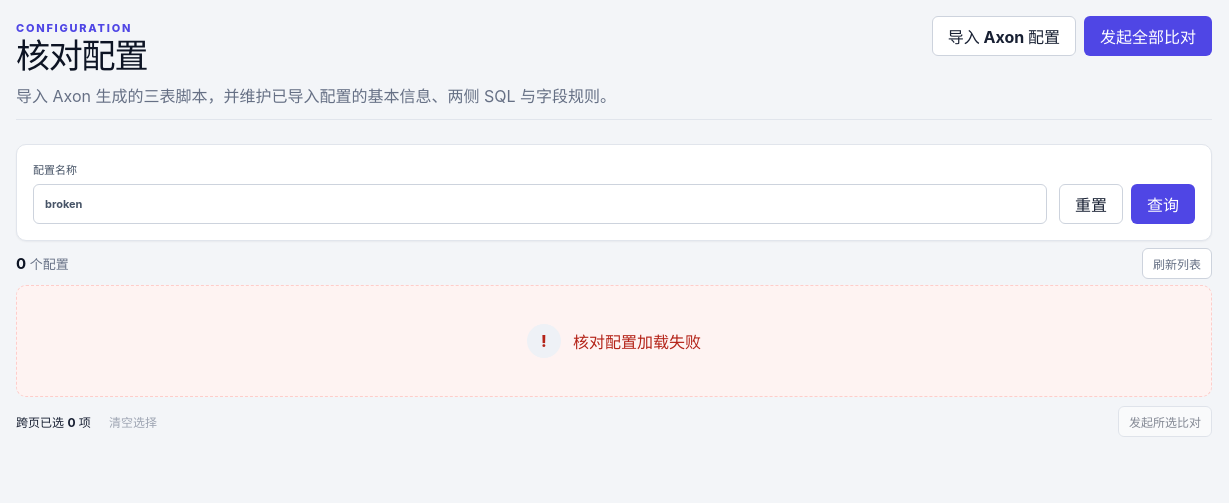
Test: keeps a failed search recoverable through reset
The image size is (1229, 503).
Expected: the text "核对配置加载失败" is shown, x1=573 y1=332 x2=701 y2=352
Expected: the field labelled "配置名称" is shown, x1=33 y1=184 x2=1047 y2=224
Click the button "重置" at x=1091, y=204, box x1=1059 y1=184 x2=1123 y2=224
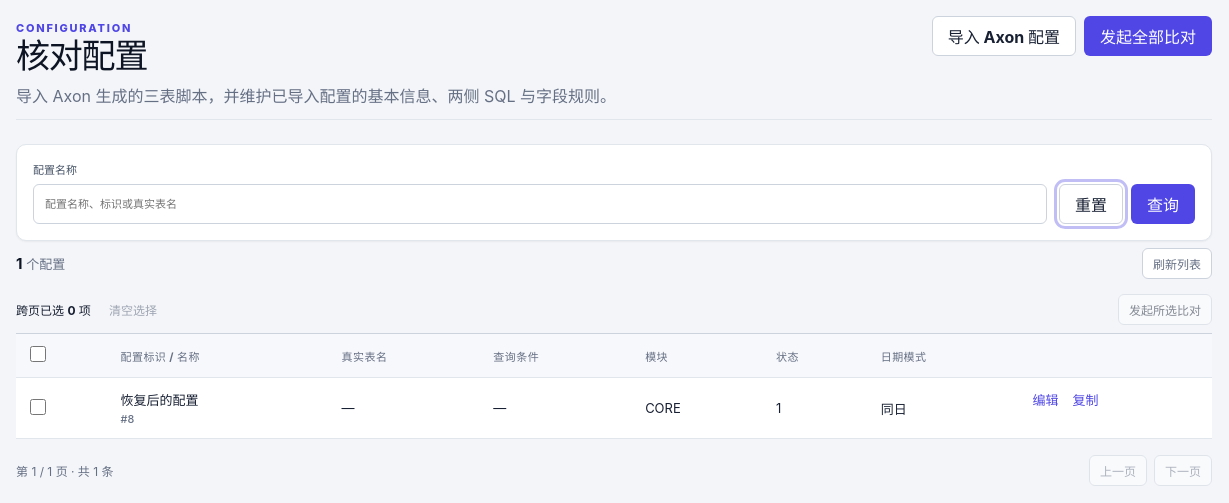
Expected: the text "恢复后的配置" is shown, x1=120 y1=392 x2=198 y2=408
